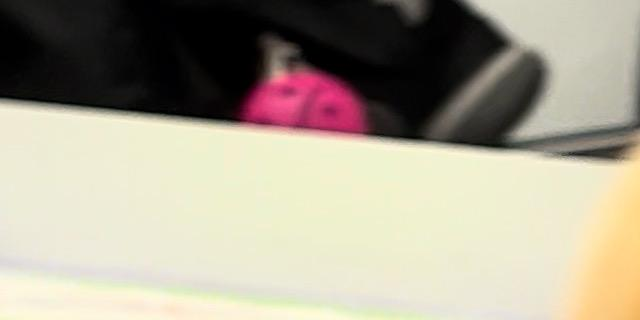burger: (440, 0, 640, 320)
